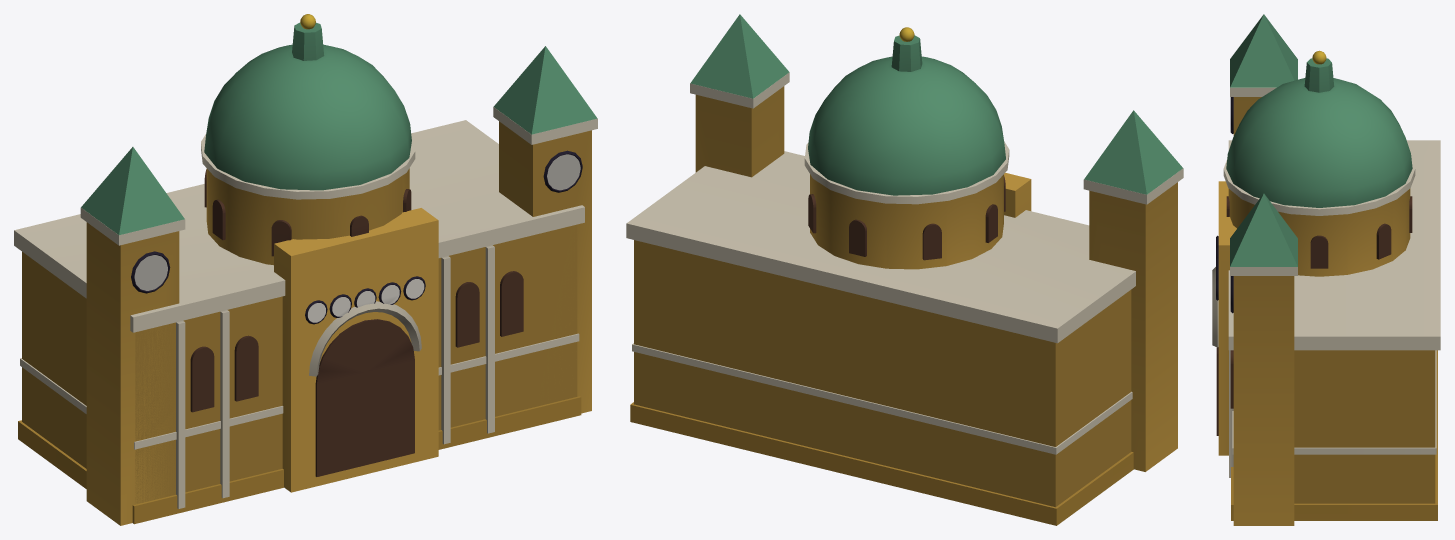
The model's file is lm-flinders.glb.
The picture shows the model from 3 angles, left to right: view 1: azimuth 30°, elevation 25°; view 2: azimuth 150°, elevation 25°; view 3: azimuth 270°, elevation 25°; orthographic projection. The views are drawn at different scales.
Size of the model in its own units: 9.75 by 8.14 by 4.52.
